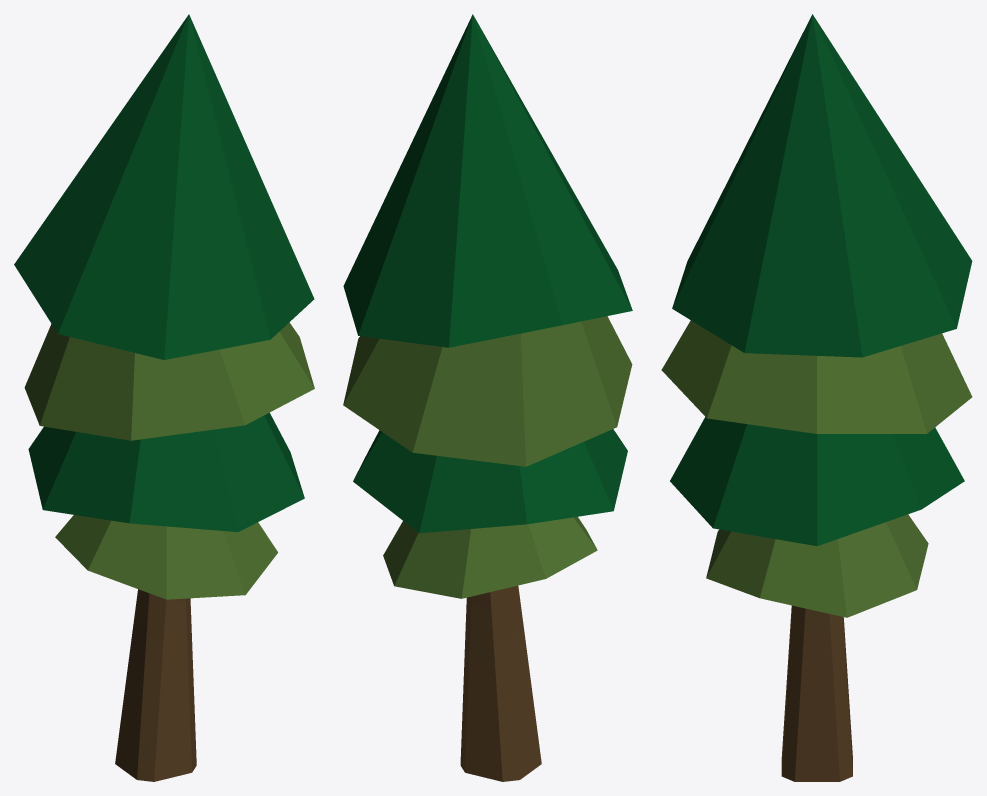
Rendered from ENV_Tree_01.fbx.
3 renders of one model, left to right at view 1: azimuth 30°, elevation 25°; view 2: azimuth 150°, elevation 25°; view 3: azimuth 270°, elevation 25°, orthographic. The views are drawn at different scales.
Parts seen in each view (by area): view 1: pCone8; view 2: pCone8; view 3: pCone8.
Part boxes in pixels (x1,y1,x2,y2): pCone8: [14, 14, 314, 781]; pCone8: [343, 14, 632, 781]; pCone8: [661, 14, 972, 781].
Bounding box in the file's own units: 8.33 × 22.81 × 8.37.
